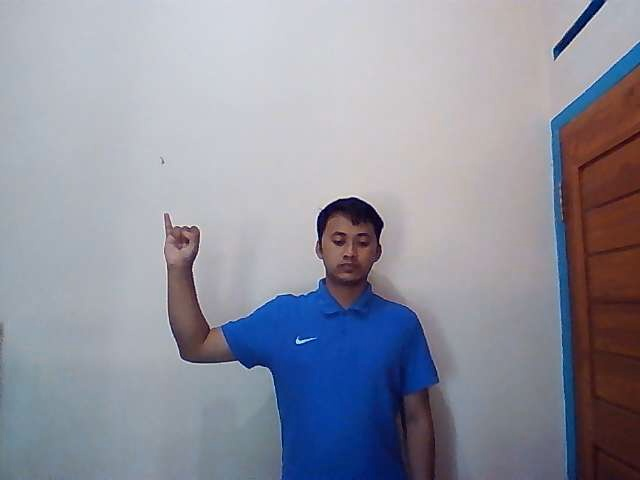I: (162, 212, 202, 268)
